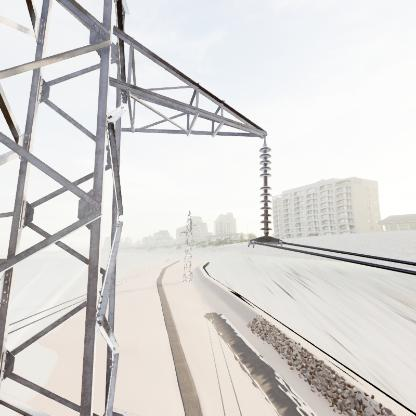insulator: (256, 142, 275, 241)
